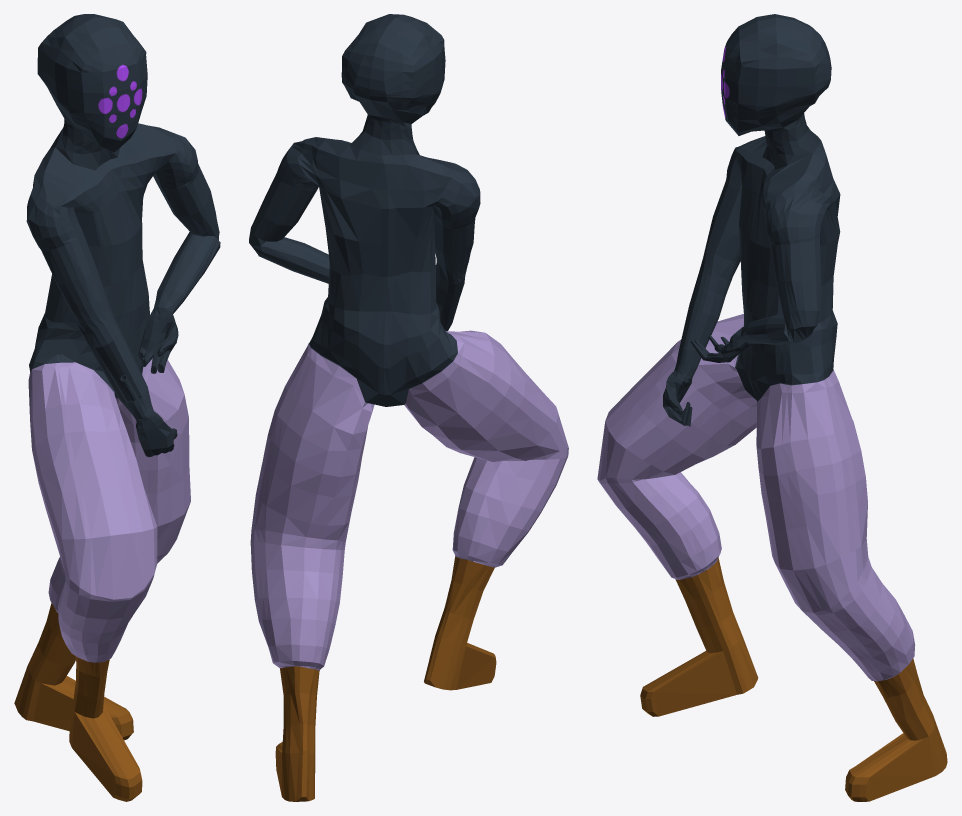
The model's file is Oracle_WB_000021.obj.
3 views of the same model, side by side, from view 1: azimuth 30°, elevation 25°; view 2: azimuth 150°, elevation 25°; view 3: azimuth 270°, elevation 25° (orthographic). The views are drawn at different scales.
Visible parts, largest first — view 1: Cube; view 2: Cube; view 3: Cube.
Boxes of the visible parts, x1,y1,x2,y2 form: Cube: (14, 14, 220, 801); Cube: (249, 14, 568, 801); Cube: (597, 14, 947, 801).
Bounding box in the file's own units: 1.23 × 3.79 × 1.61.
